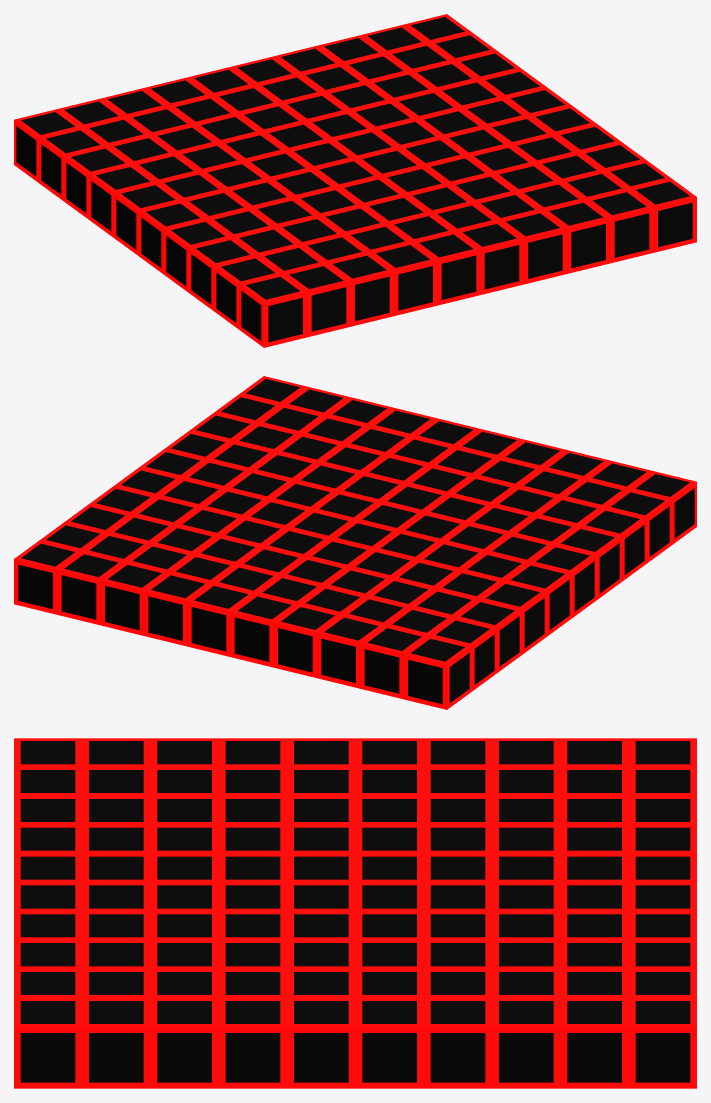
The model's file is DeathLoc.fbx.
The picture shows the model from 3 angles, top to bottom: view 1: azimuth 30°, elevation 25°; view 2: azimuth 150°, elevation 25°; view 3: azimuth 270°, elevation 25°; orthographic projection. The views are drawn at different scales.
Visible parts, largest first — view 1: Cube; view 2: Cube; view 3: Cube.
Boxes of the visible parts, x1=… form: Cube: x1=14, y1=14, x2=696, y2=347; Cube: x1=14, y1=376, x2=696, y2=709; Cube: x1=14, y1=738, x2=696, y2=1088.
Bounding box in the file's own units: 2000 × 200 × 2000.
